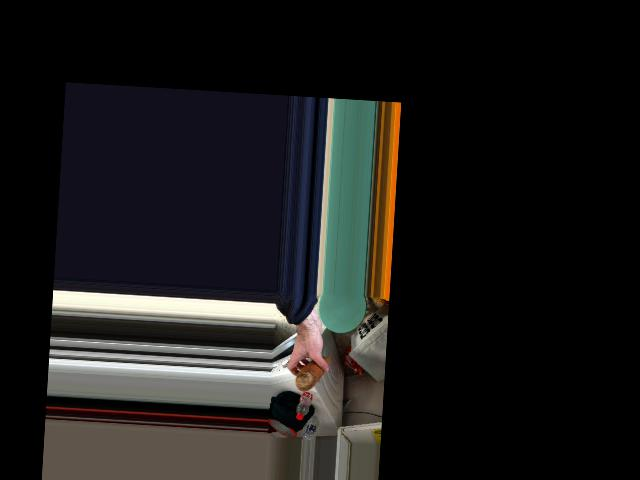sweet_potato: (297, 355, 331, 392)
